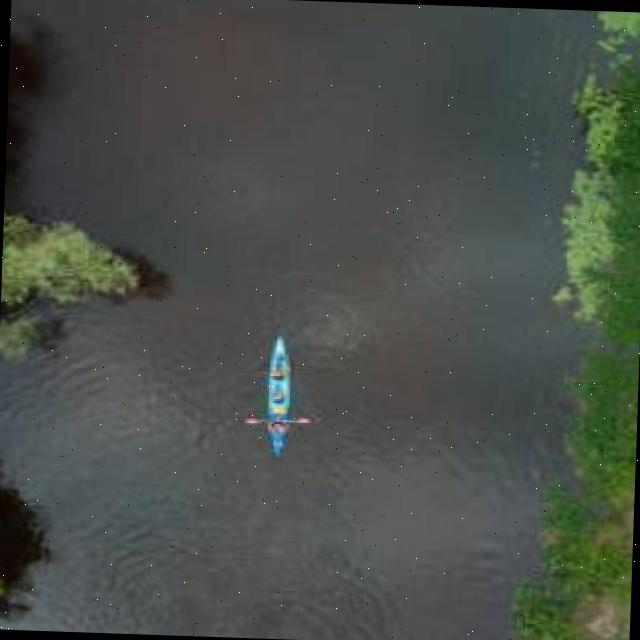kayak: (274, 336, 289, 453)
